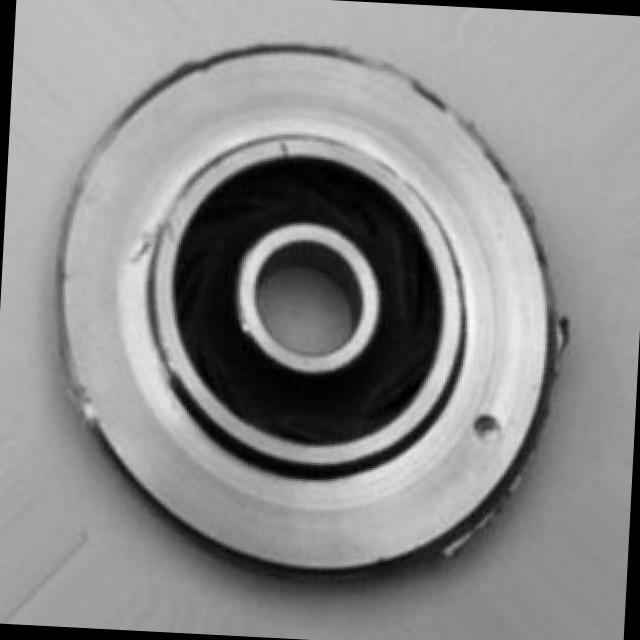Defect: (473, 406, 505, 447)
